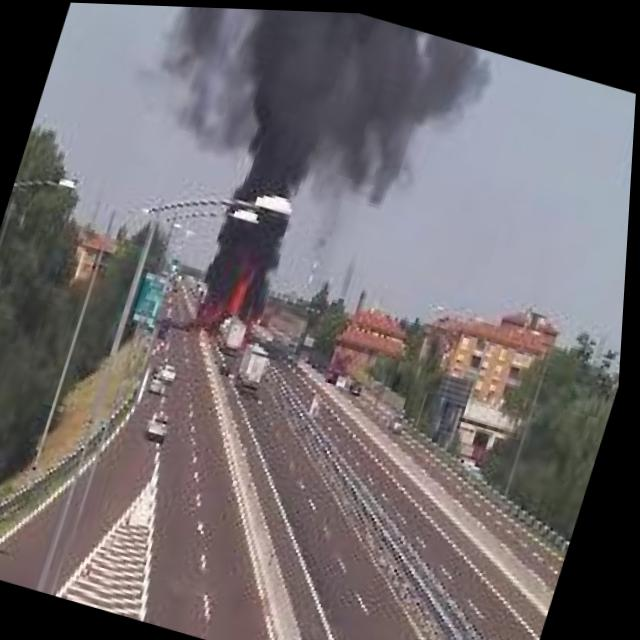fire: (187, 251, 273, 341)
